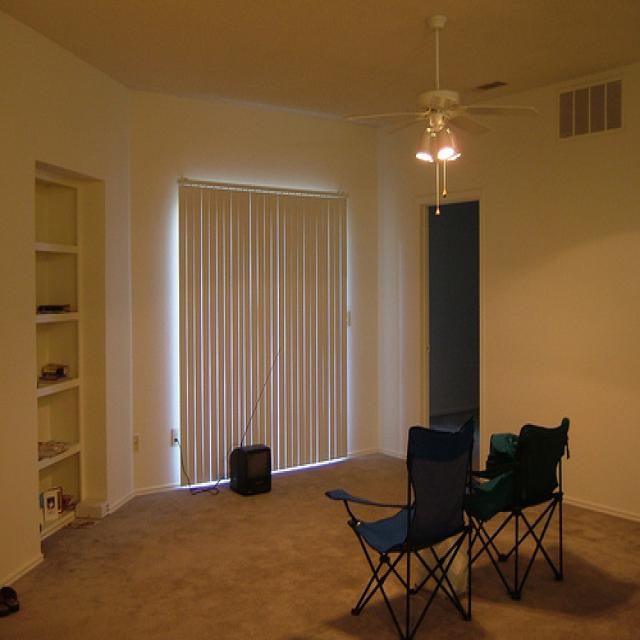chair: (326, 421, 475, 639), (469, 416, 572, 602)
tvmonitor: (230, 443, 272, 499)
